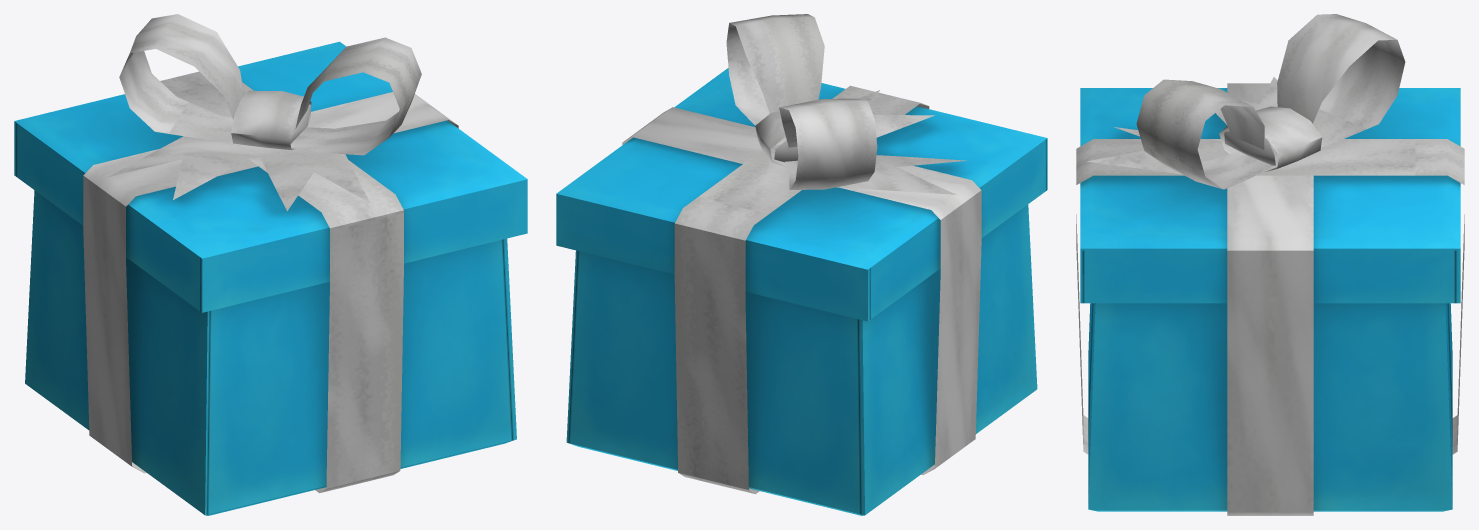
The model's file is item.glb.
The picture shows the model from 3 angles, left to right: view 1: azimuth 30°, elevation 25°; view 2: azimuth 150°, elevation 25°; view 3: azimuth 270°, elevation 25°; orthographic projection. The views are drawn at different scales.
Size of the model in its own units: 0.8986 by 0.9857 by 0.8986.
2 materials, 2 textured.
